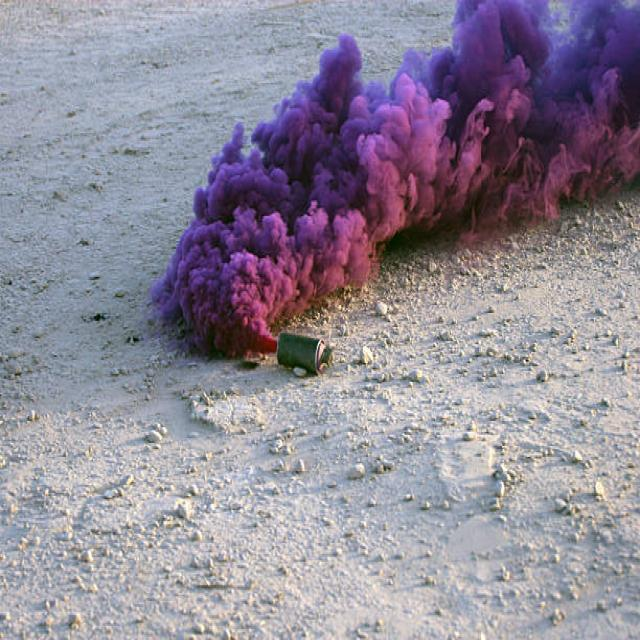grenade: (272, 332, 338, 377)
